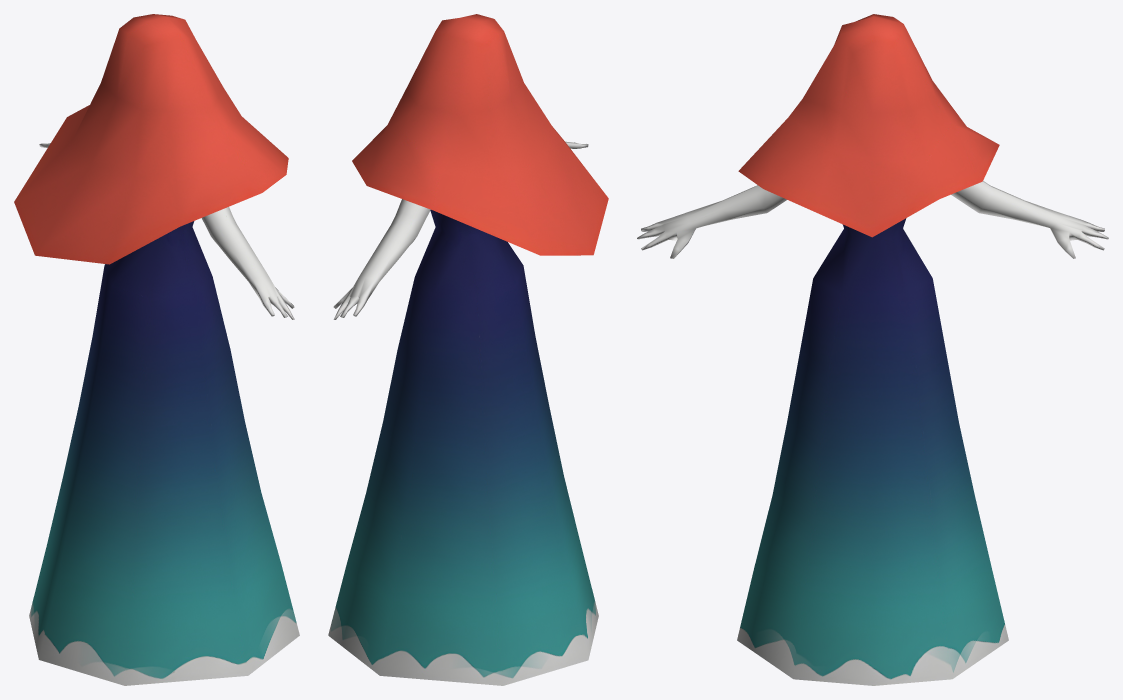
3 views of the same model, side by side, from view 1: azimuth 30°, elevation 25°; view 2: azimuth 150°, elevation 25°; view 3: azimuth 270°, elevation 25° (orthographic).
Parts seen in each view (by area): view 1: tripo_node_abb63838-724c-4938-96f8-3124e9e844a1; view 2: tripo_node_abb63838-724c-4938-96f8-3124e9e844a1; view 3: tripo_node_abb63838-724c-4938-96f8-3124e9e844a1.
Boxes of the visible parts, bbox=[...] form: tripo_node_abb63838-724c-4938-96f8-3124e9e844a1: bbox=[14, 14, 299, 685]; tripo_node_abb63838-724c-4938-96f8-3124e9e844a1: bbox=[328, 14, 608, 685]; tripo_node_abb63838-724c-4938-96f8-3124e9e844a1: bbox=[637, 14, 1108, 685].
Bounding box in the file's own units: 0.4082 × 0.998 × 0.7012.
Materials: 1 (1 with a texture image).
